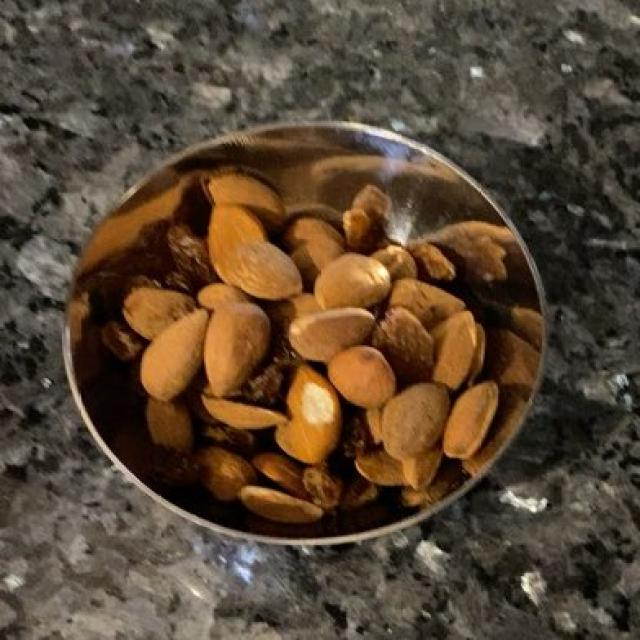mix-of-dried-fruits-and-nuts: (84, 174, 543, 528)
